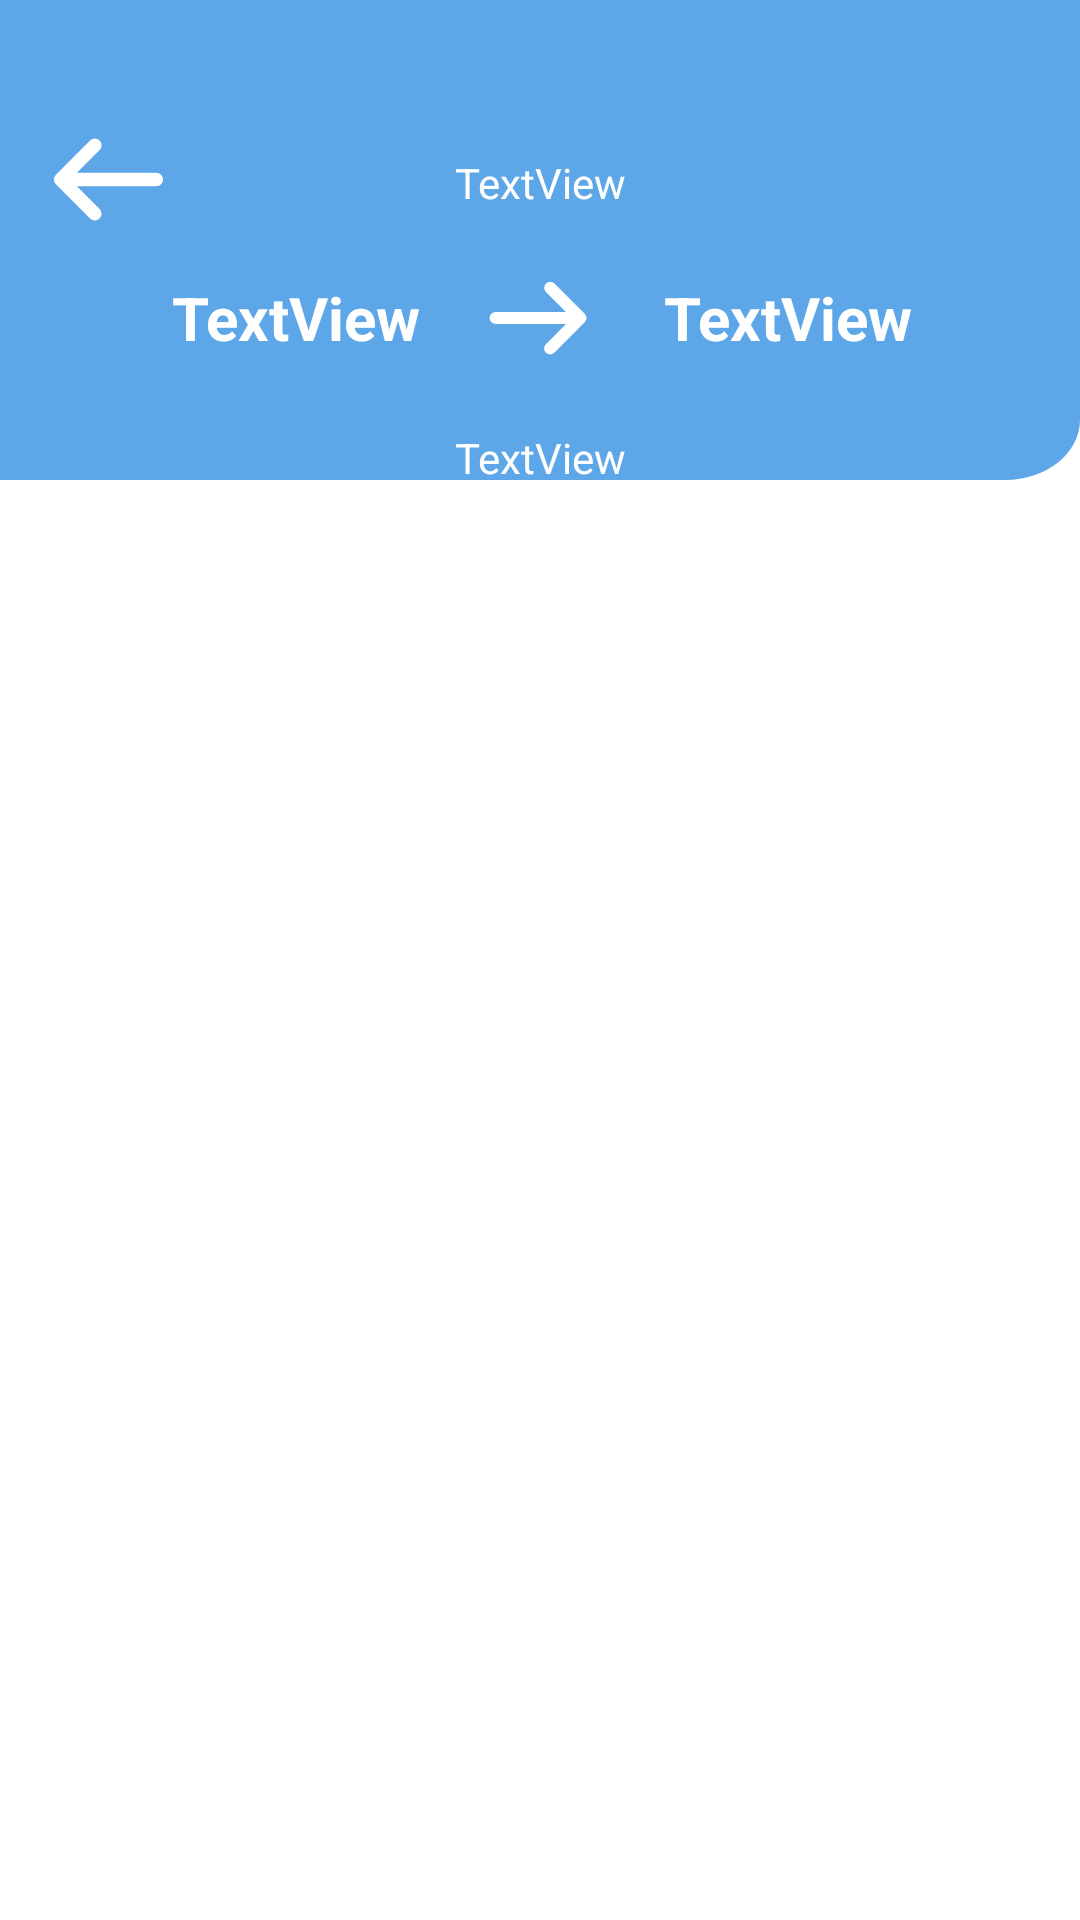

Icons on this 1080 × 1920 Android screen, each with the point to tap as (x,y):
from to: (538,318)
